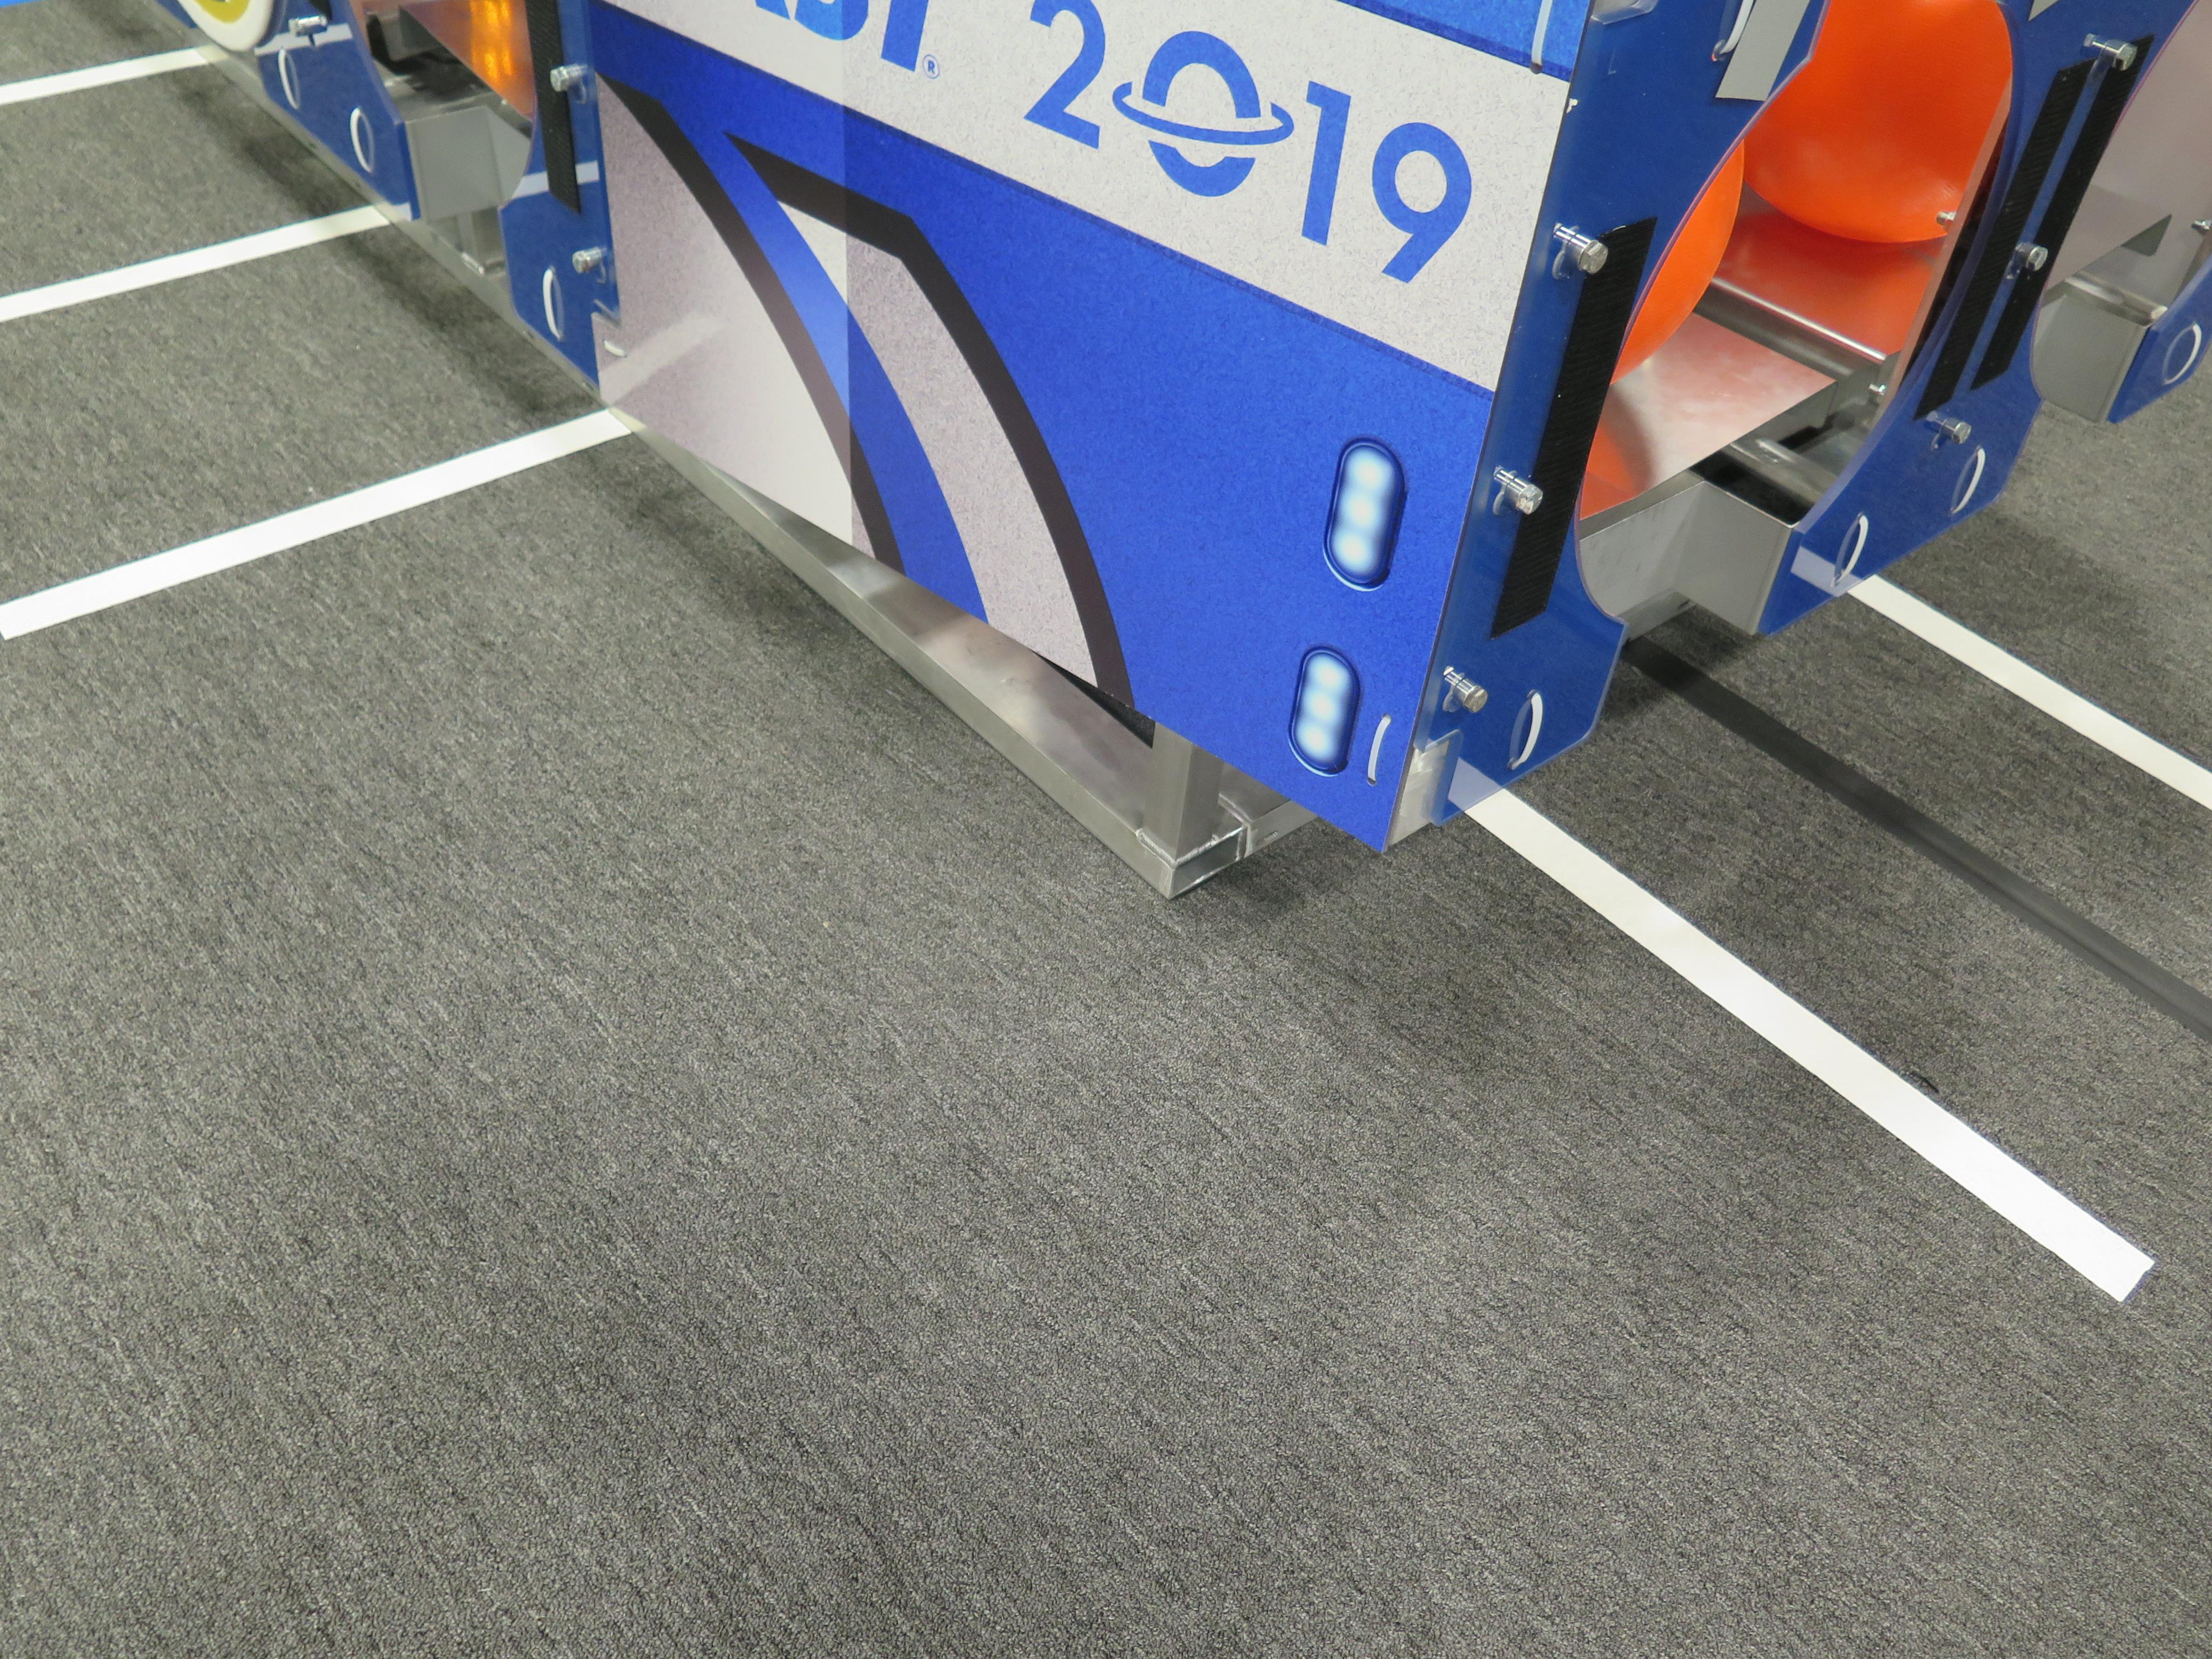Ball: (1749, 0, 2015, 246), (1606, 110, 1745, 376)
Tape: (1710, 0, 1808, 110)
